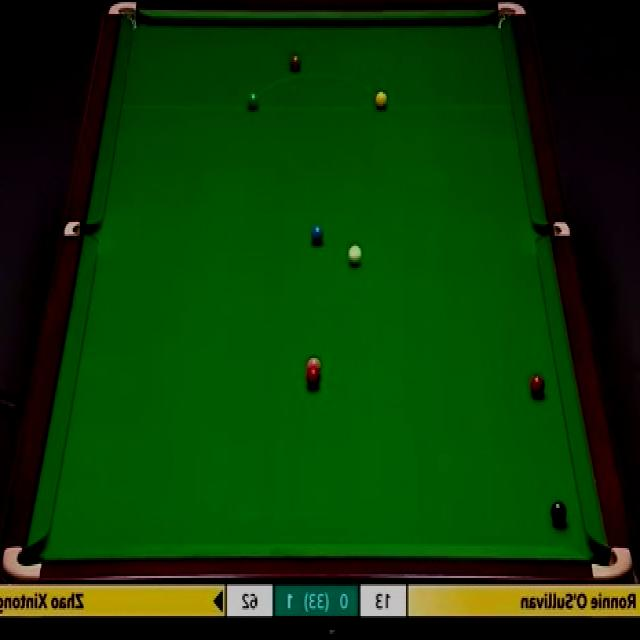black-ball: (553, 504, 570, 530)
blue-ball: (310, 222, 325, 245)
brown-ball: (289, 54, 302, 74)
green-ball: (247, 89, 260, 110)
pink-ball: (306, 355, 322, 370)
red-ball: (530, 372, 546, 398), (305, 367, 321, 388)
white-ball: (348, 240, 363, 266)
yellow-ball: (375, 90, 387, 110)
